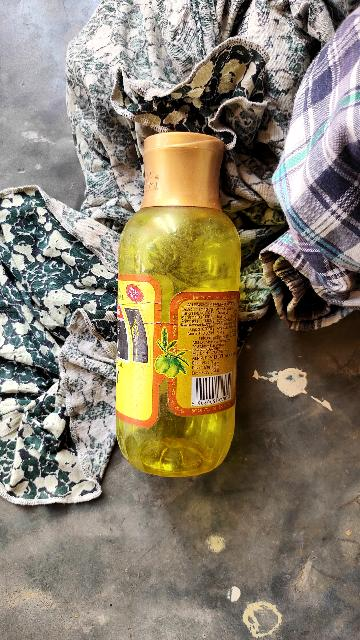bottle: (111, 136, 250, 478)
